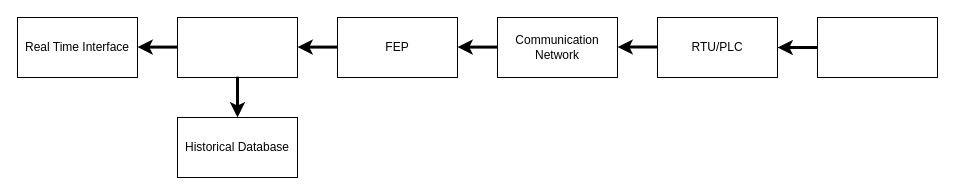
The diagram is 955 pixels wide and 195 high, and some of its shapes have lost their labels. Each missing label, with the box of its shape:
Field Equipment: (816, 16, 938, 78)
SCADA: (176, 16, 298, 78)
